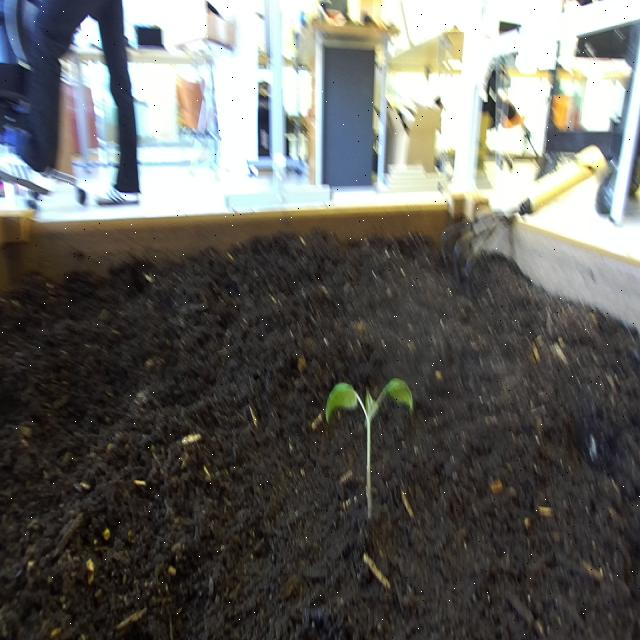Healthy: (322, 368, 418, 527)
